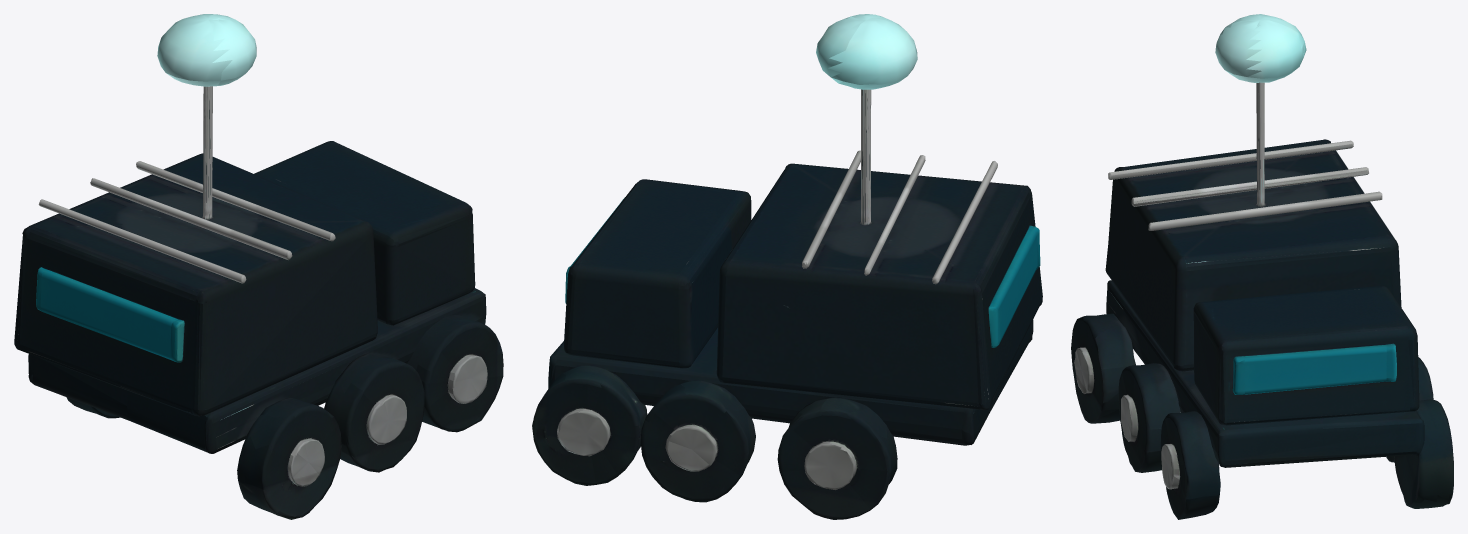
File: mobile-relay.glb
3 views of the same model, side by side, from view 1: azimuth 30°, elevation 25°; view 2: azimuth 150°, elevation 25°; view 3: azimuth 270°, elevation 25° (orthographic). The views are drawn at different scales.
Size of the model in its own units: 1 by 1 by 0.8652.
1 material, 1 textured.
